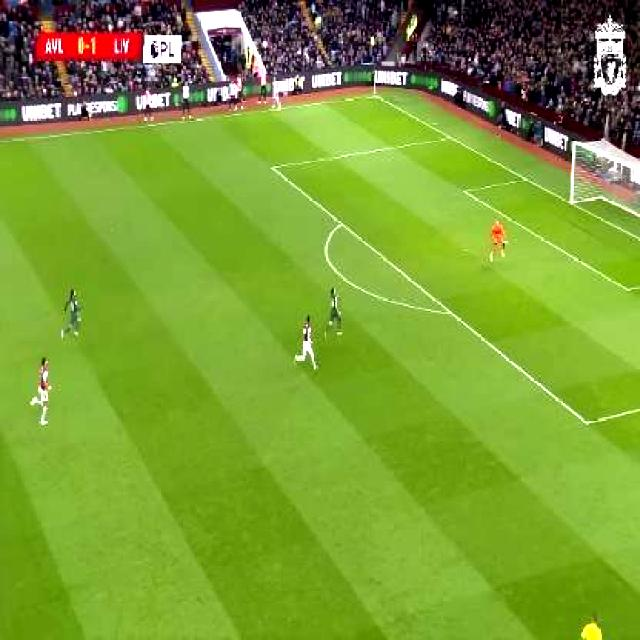bigarea_bottom_inner: (576, 408, 596, 434)
bigarea_top_inner: (265, 157, 280, 175)
bigarea_top_outter: (443, 129, 455, 143)
bottom_arc_area_intersection: (441, 302, 457, 322)
corner: (365, 88, 380, 101)
smallarea_bottom_inner: (618, 275, 636, 300)
smallarea_top_inner: (457, 182, 471, 198)
smallarea_top_outter: (517, 169, 532, 186)
top_arc_area_intersection: (334, 214, 348, 231)
